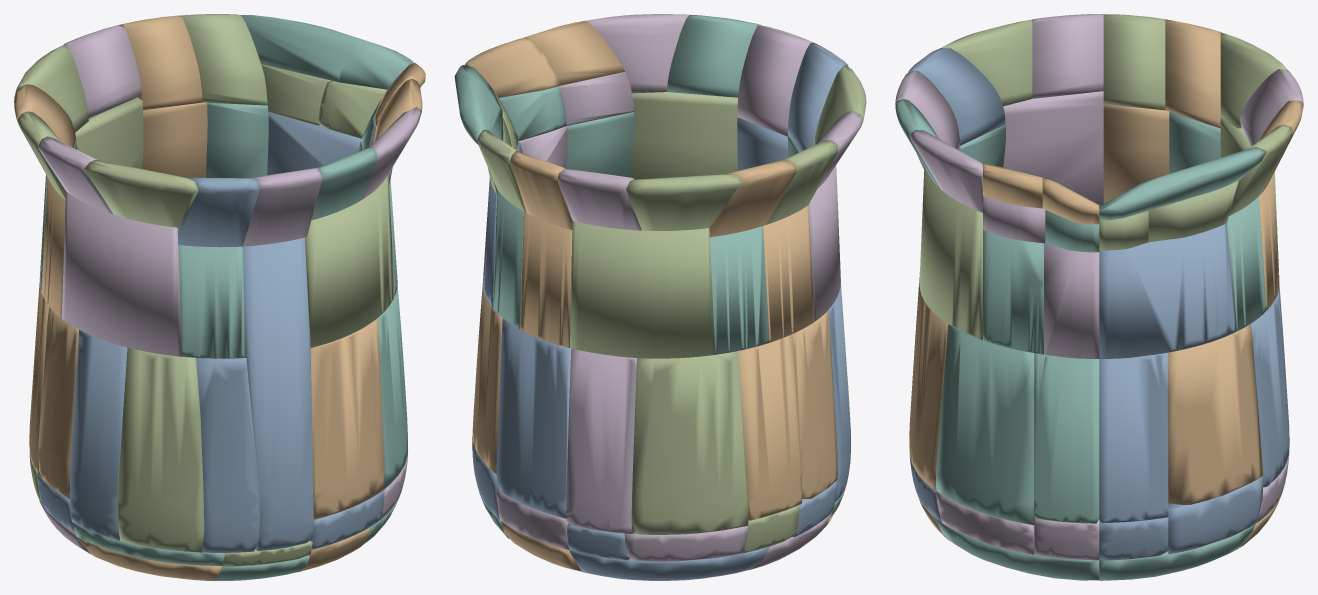
The picture shows the model from 3 angles, left to right: view 1: azimuth 30°, elevation 25°; view 2: azimuth 150°, elevation 25°; view 3: azimuth 270°, elevation 25°; orthographic projection.
Size of the model in its own units: 1.37 by 1.49 by 1.29.
